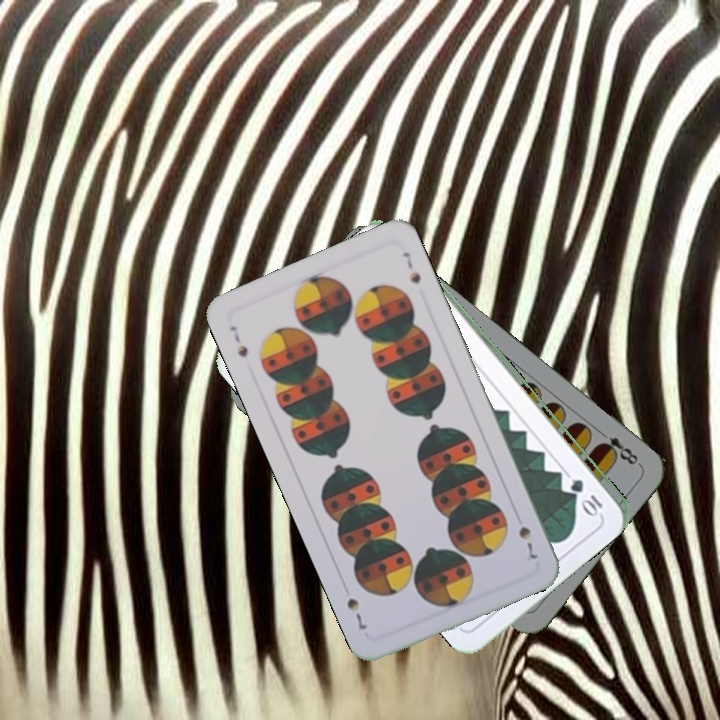E8: (594, 425, 641, 468)
G10: (567, 474, 605, 517)
S7: (514, 522, 540, 562), (225, 321, 251, 360)
